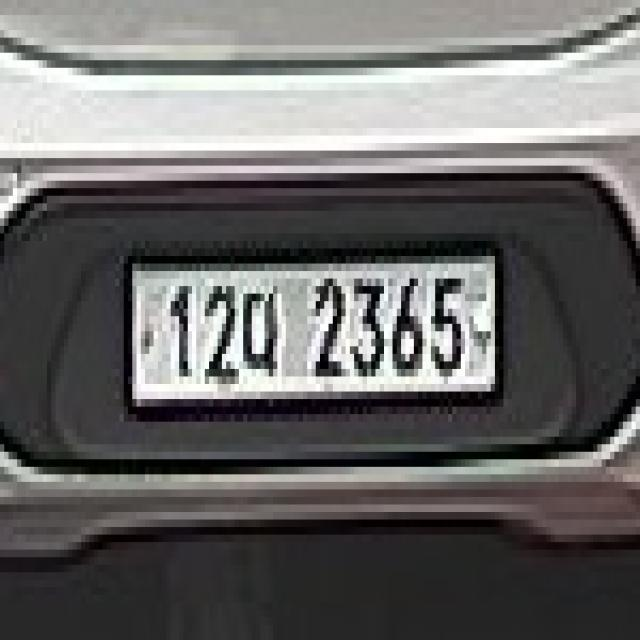1: (166, 278, 192, 392)
2: (201, 279, 243, 399), (307, 271, 350, 384)
3: (346, 271, 388, 392)
5: (431, 271, 469, 399)
6: (392, 271, 427, 399)
da: (243, 278, 286, 392)
license_plate: (124, 241, 508, 422)
